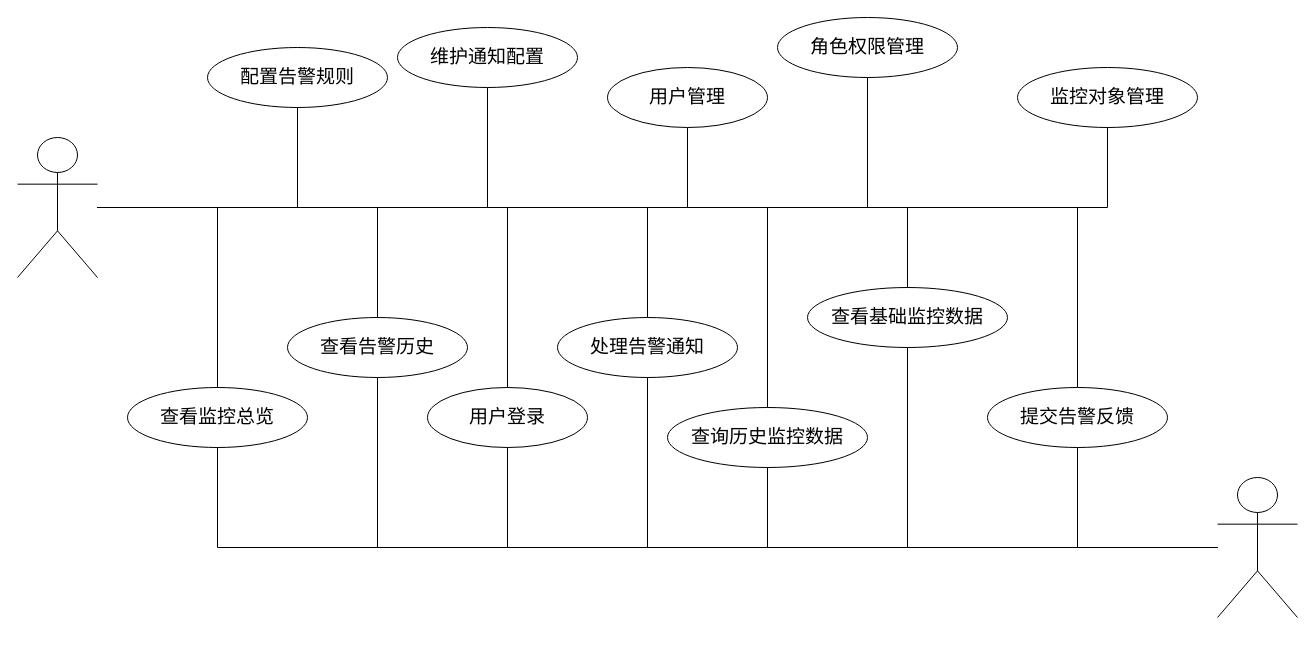
The diagram is 1315 pixels wide and 666 high, and some of its shapes have lost their labels. The shapes that lost their labels are listed below. From the top down, each one's box as (x1, y1, x2, y2) in pixels, then its label:
(16, 136, 98, 278): 管理员
(1216, 476, 1298, 618): 普通用户
